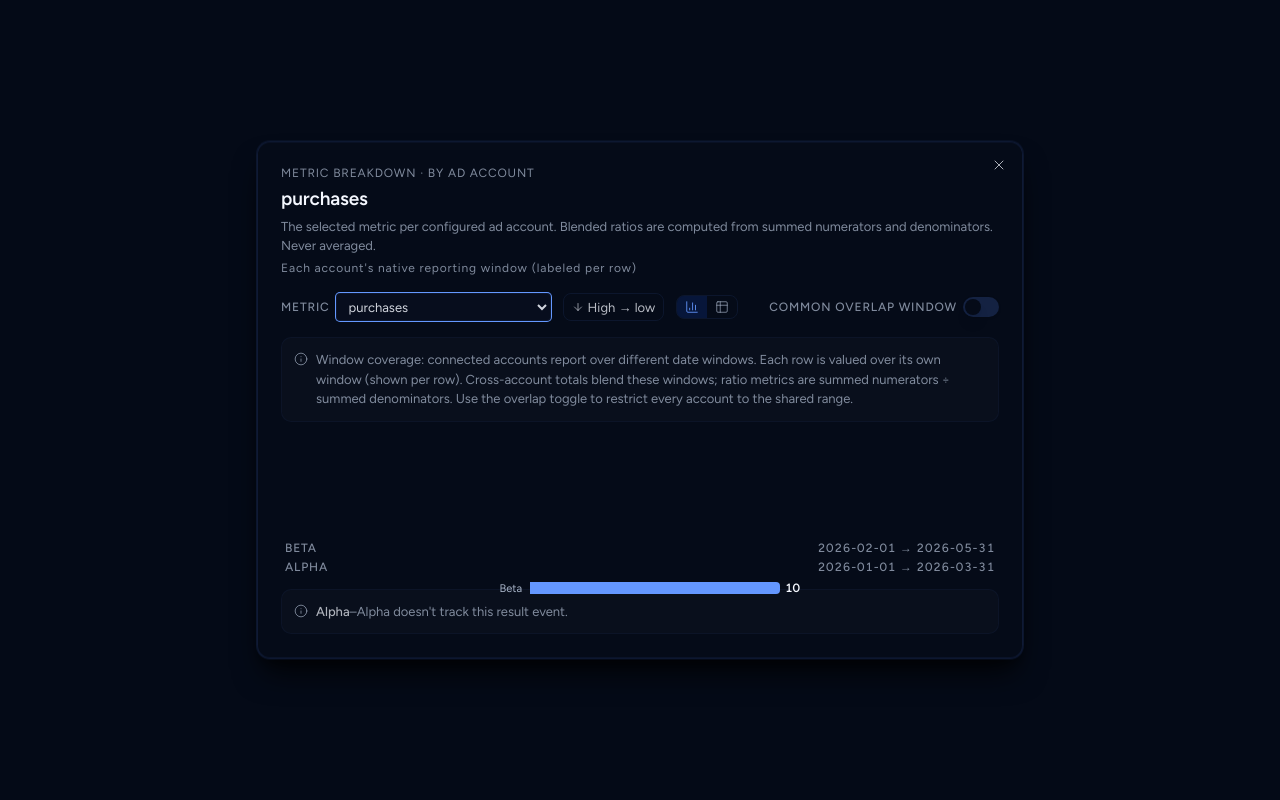
Test: KpiDrilldownModal · manager scope › metric an account doesn't track shows n/a. Never zero
Click the button named "Table view": (722, 308) top-left (707, 297), bottom-right (737, 319)
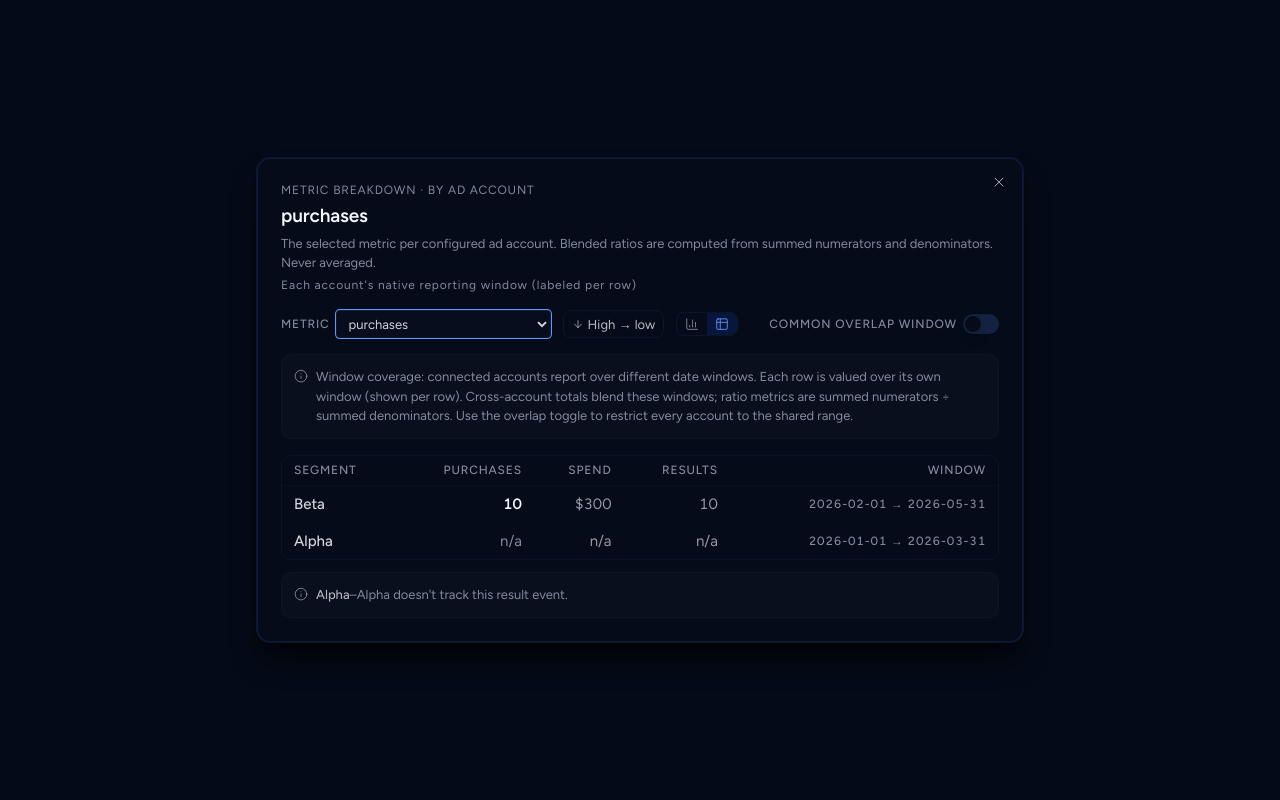
Now the 1st cell "n/a" is shown, box top-left (398, 523), bottom-right (534, 559)
